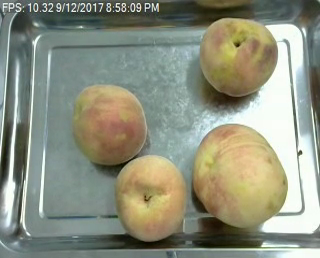Peach: (192, 122, 288, 230), (199, 17, 278, 97), (115, 154, 185, 243), (73, 83, 148, 166)
